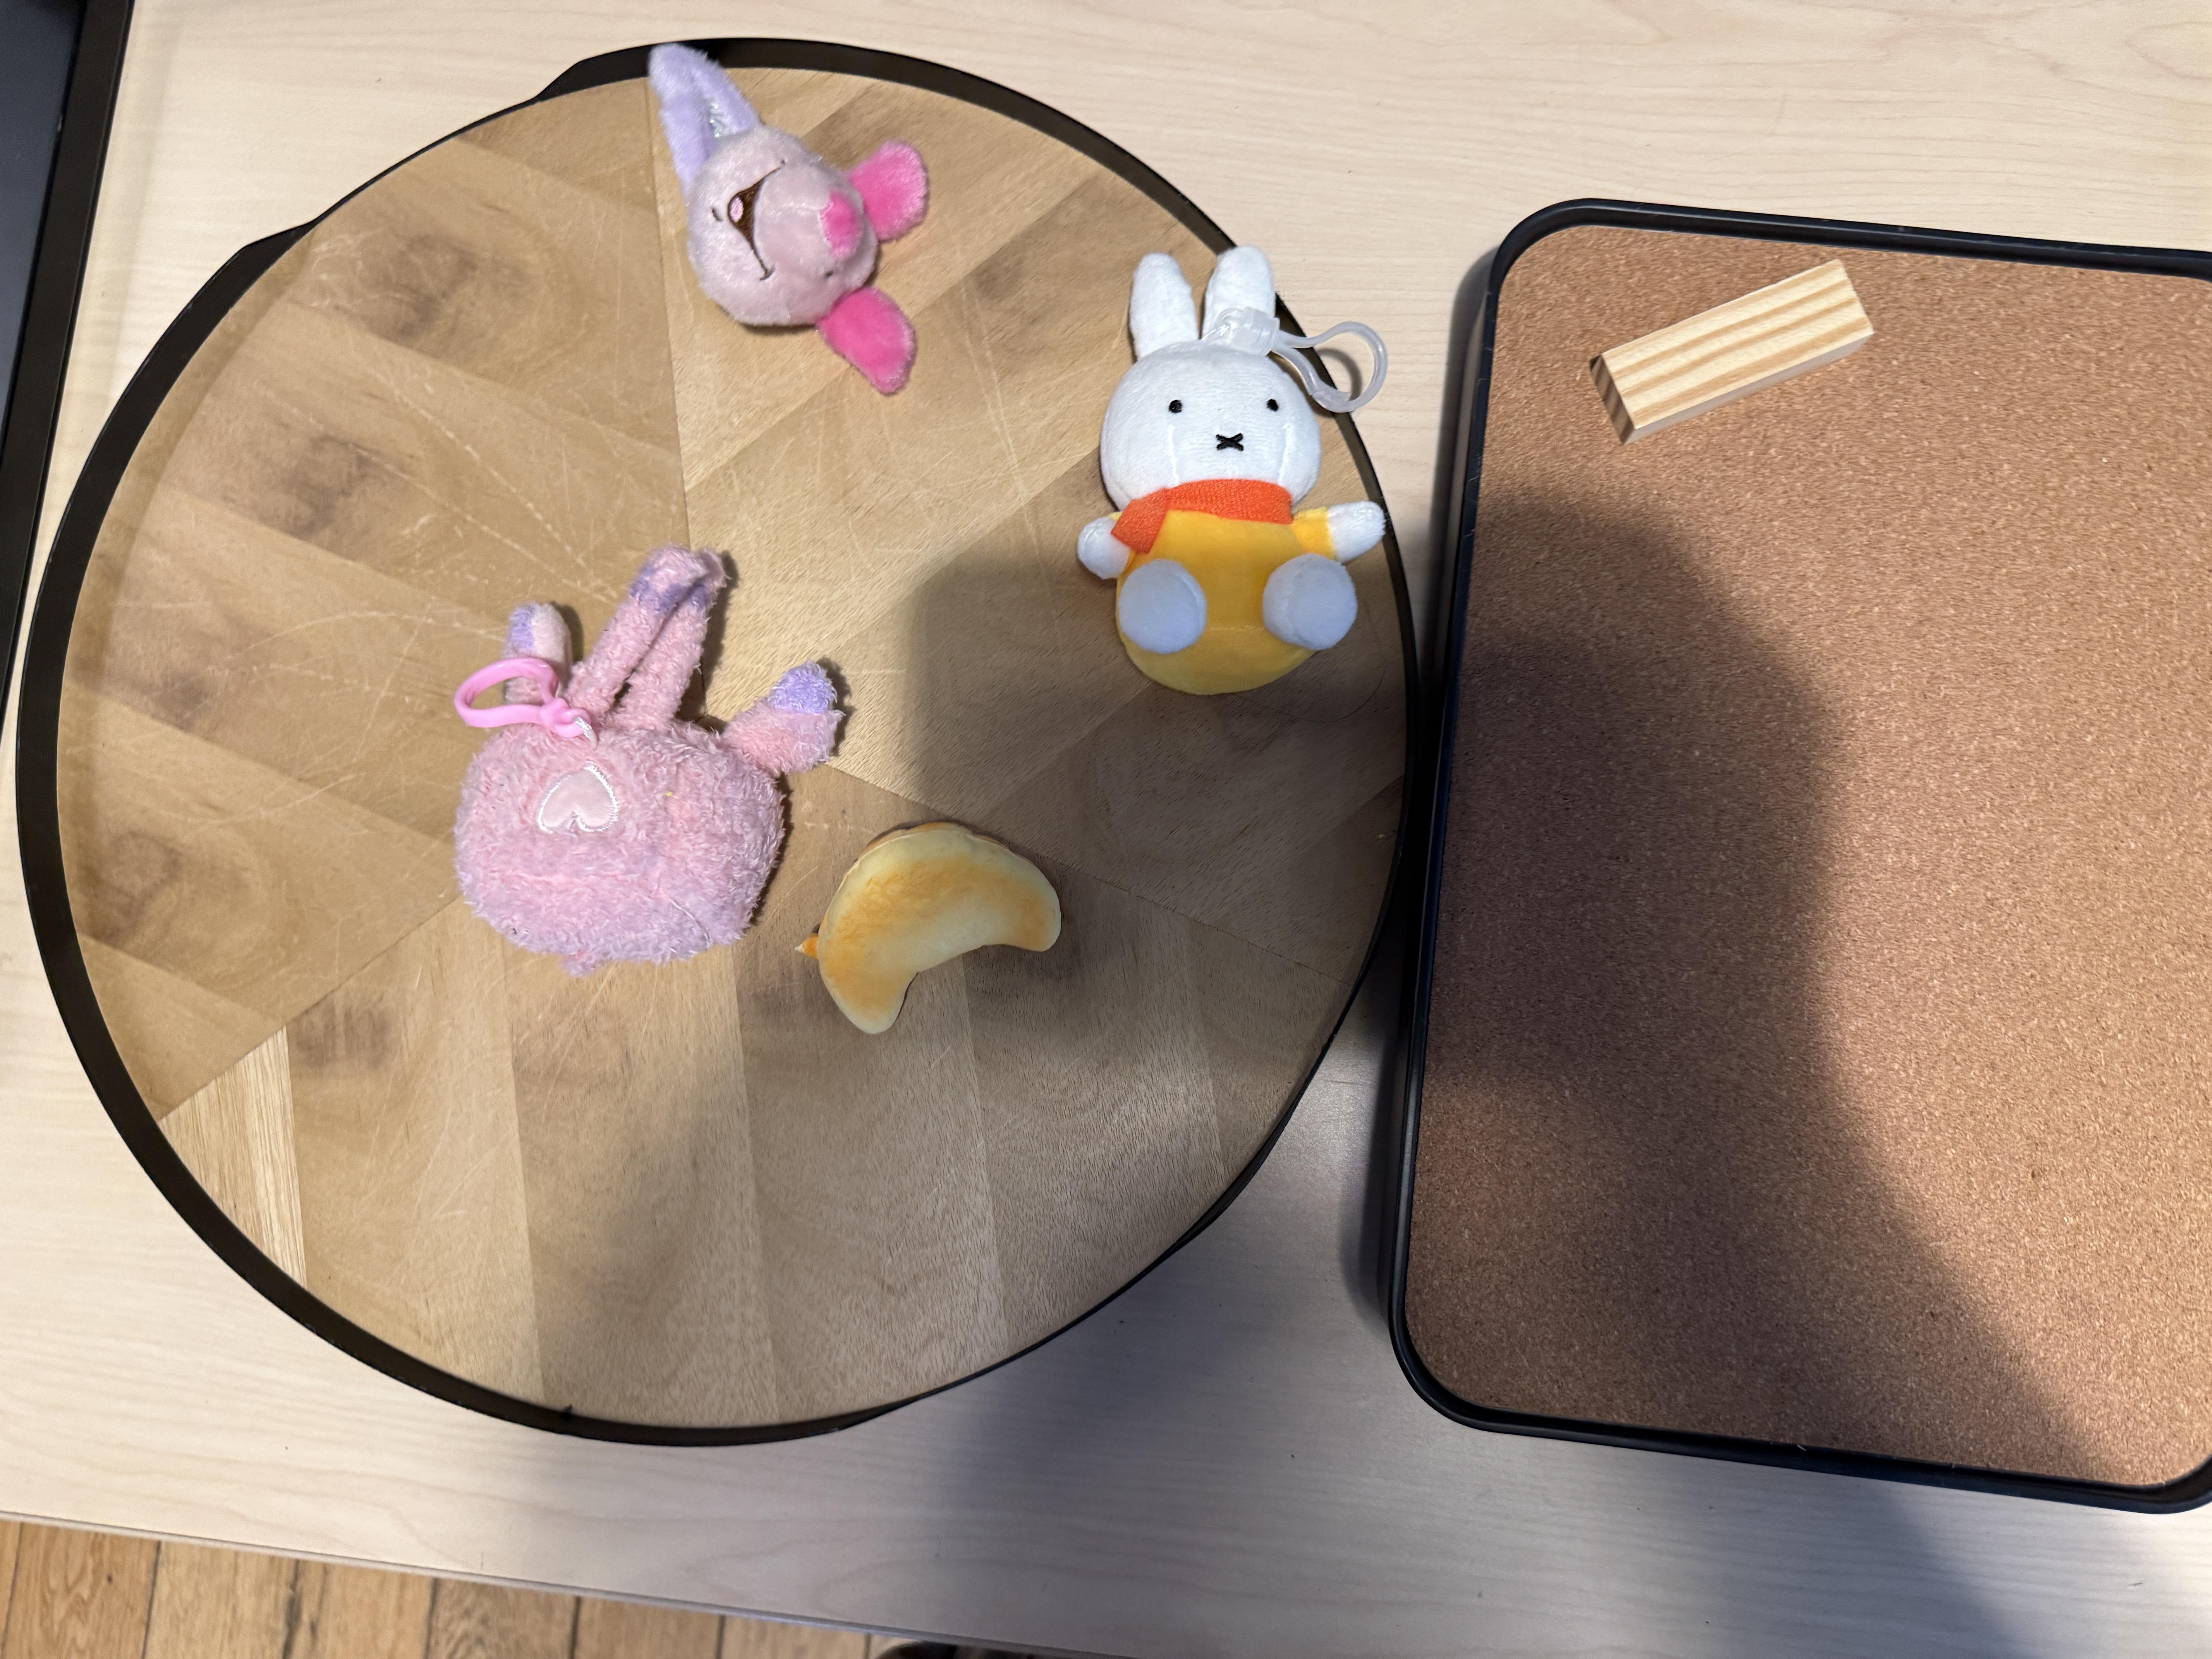block: (1597, 254, 1879, 443)
bread: (808, 819, 1064, 1039)
doll: (453, 542, 841, 971), (1076, 240, 1392, 692), (639, 51, 925, 390)
